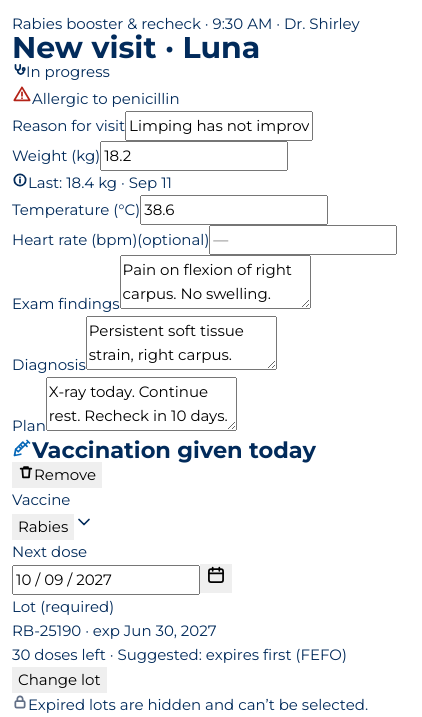
Test: VisitRecord › removes the vaccination and adds it back
Click the button "Remove" at (57, 475), box x1=12 y1=462 x2=102 y2=488
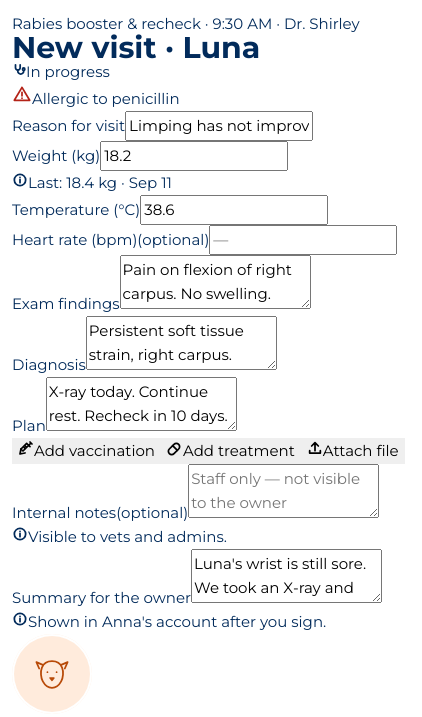
Now the heading "Vaccination given today" is gone
Click the button "Add vaccination" at (86, 451), box x1=12 y1=438 x2=161 y2=464
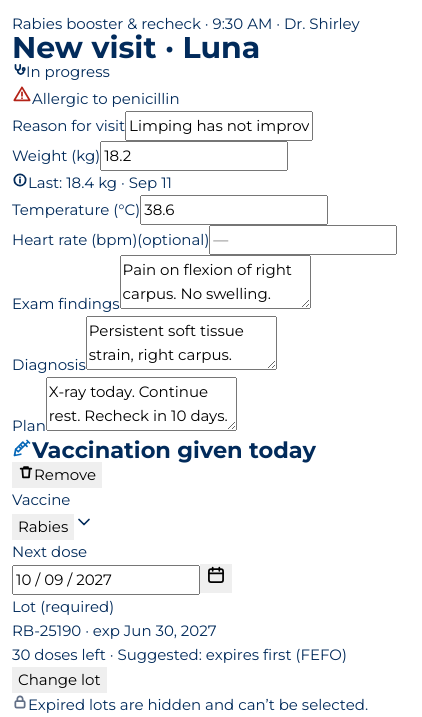
Now the heading "Vaccination given today" is shown, box x1=12 y1=436 x2=316 y2=464
